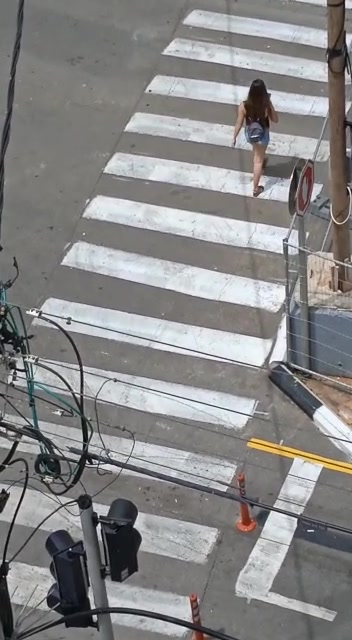crosswalk: (11, 3, 305, 604)
person: (225, 64, 291, 207)
